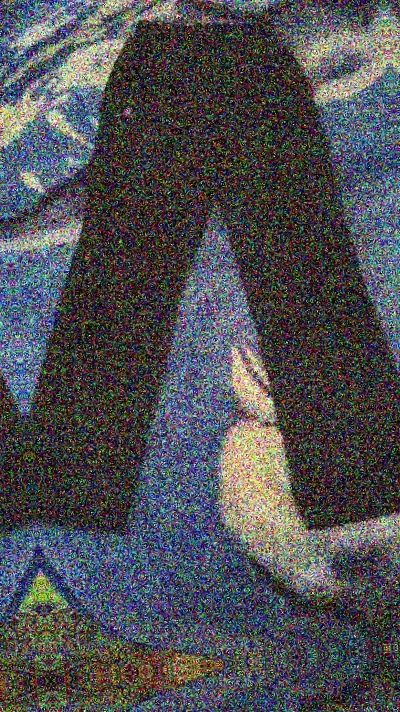Pants: (0, 0, 400, 562), (0, 23, 32, 599), (396, 0, 400, 523)
